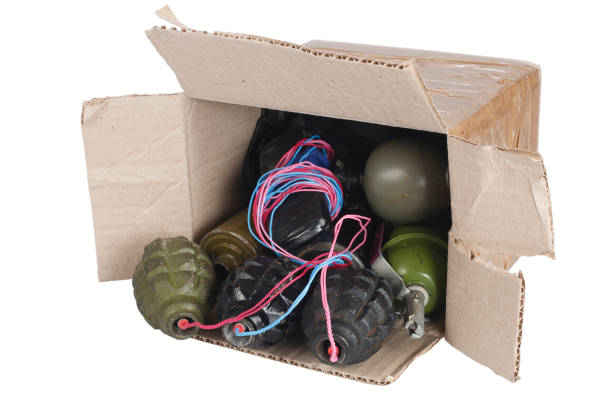e1: (134, 235, 216, 336)
